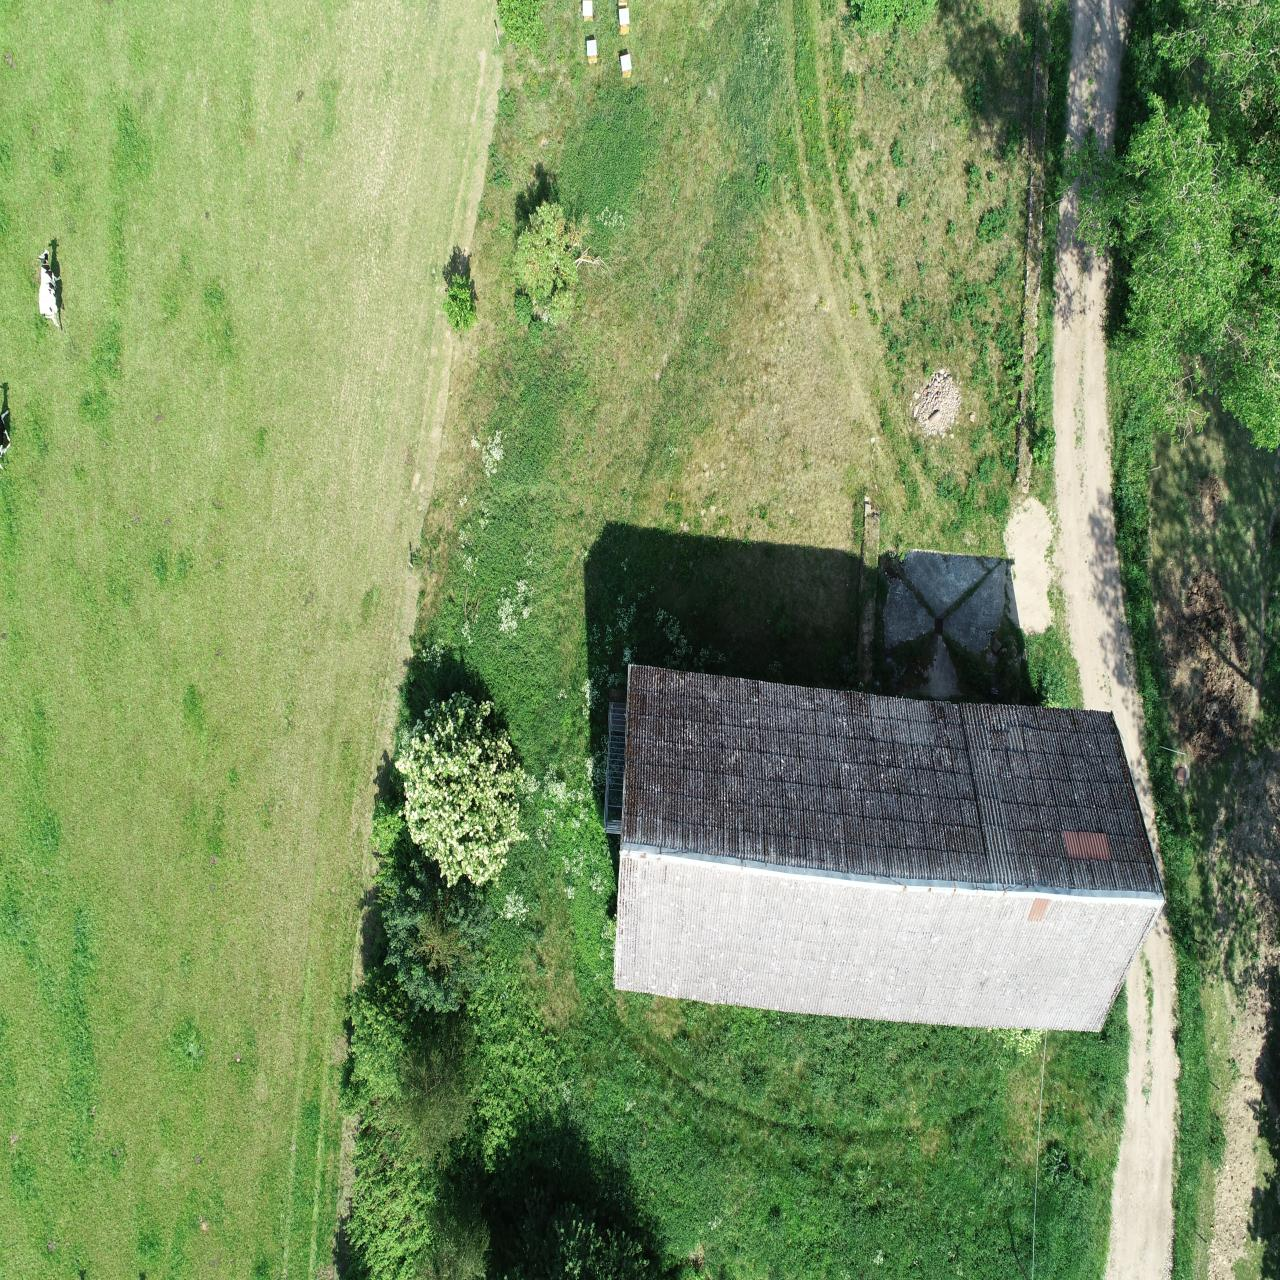cow: (38, 247, 64, 331)
